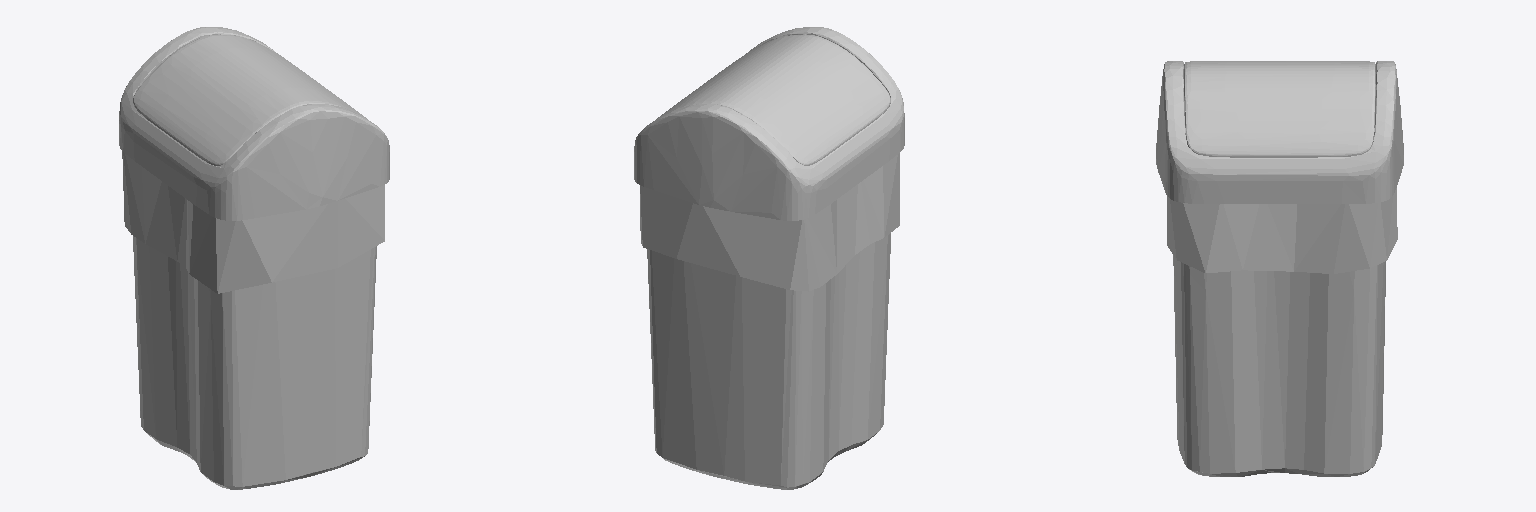
File: plastic_trash_bin.obj
The picture shows the model from 3 angles: view 1: azimuth 30°, elevation 25°; view 2: azimuth 150°, elevation 25°; view 3: azimuth 270°, elevation 25°; orthographic projection.
Parts seen in each view (by area): view 1: Object_5, Object_4; view 2: Object_5, Object_4; view 3: Object_5, Object_4.
Boxes of the visible parts, x1=… form: Object_5: x1=119, y1=27, x2=389, y2=489; Object_4: x1=122, y1=151, x2=384, y2=293; Object_5: x1=634, y1=27, x2=904, y2=489; Object_4: x1=640, y1=153, x2=899, y2=291; Object_5: x1=1156, y1=61, x2=1403, y2=476; Object_4: x1=1167, y1=188, x2=1397, y2=273.
Size of the model in its own units: 52.36 by 102 by 61.58.